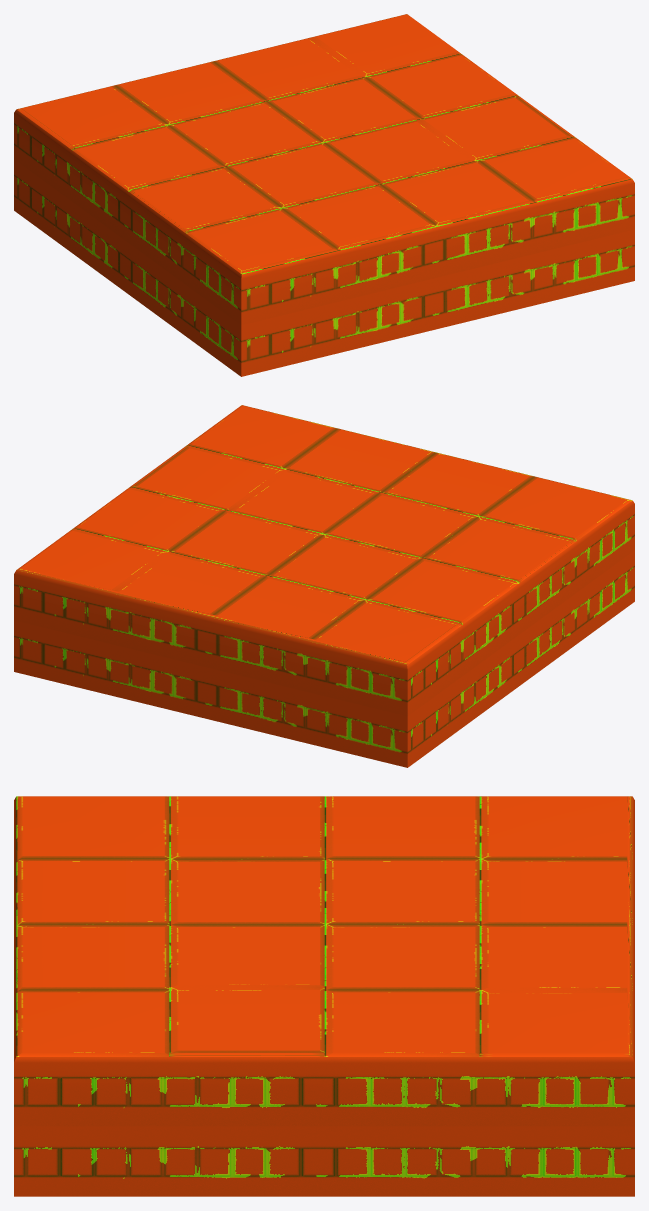
The model's file is Floor Tile.fbx.
The picture shows the model from 3 angles, top to bottom: view 1: azimuth 30°, elevation 25°; view 2: azimuth 150°, elevation 25°; view 3: azimuth 270°, elevation 25°; orthographic projection. The views are drawn at different scales.
Parts seen in each view (by area): view 1: pCube3; view 2: pCube3; view 3: pCube3.
Part boxes in pixels (x1,y1,x2,y2): pCube3: (14, 14, 634, 376); pCube3: (14, 405, 634, 767); pCube3: (14, 796, 634, 1196).
Size of the model in its own units: 200 by 50 by 200.
